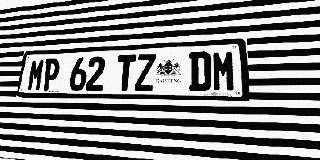2: (85, 56, 106, 91)
6: (69, 57, 89, 91)
D: (189, 51, 211, 92)
M: (212, 50, 236, 92), (26, 59, 46, 91)
P: (41, 58, 61, 91)
T: (115, 55, 136, 91)
Z: (135, 54, 156, 91)
